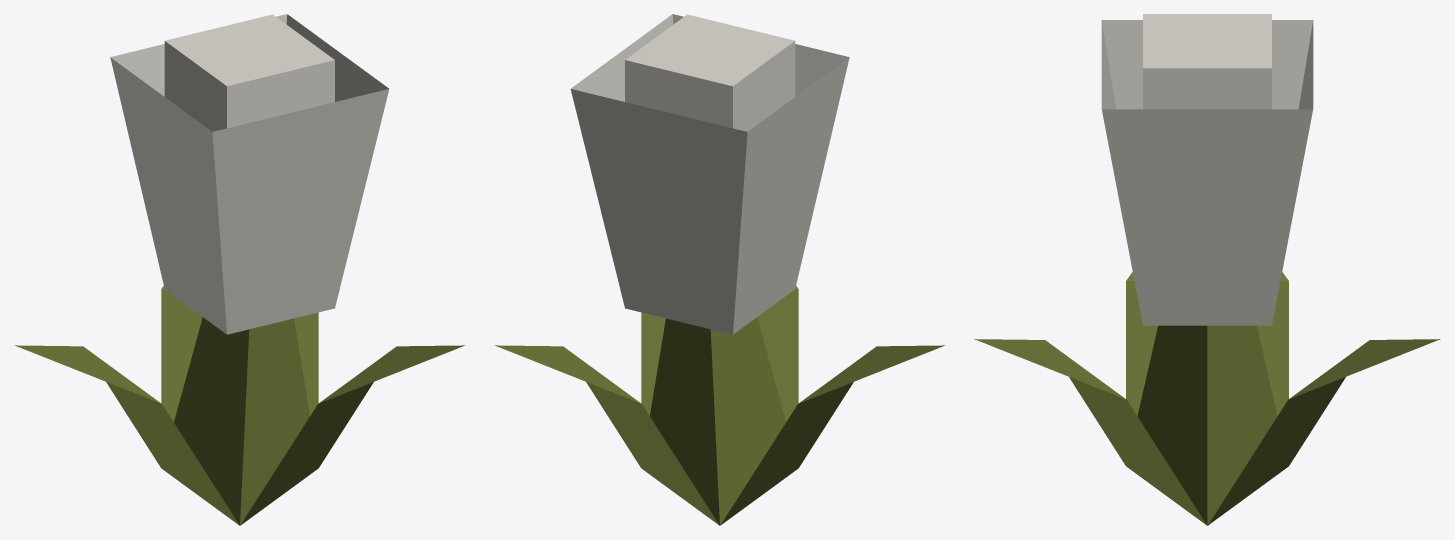
The model's file is fleur-blanche.glb.
3 renders of one model, left to right at view 1: azimuth 30°, elevation 25°; view 2: azimuth 150°, elevation 25°; view 3: azimuth 270°, elevation 25°, orthographic. The views are drawn at different scales.
Parts seen in each view (by area): view 1: flower_yellowA; view 2: flower_yellowA; view 3: flower_yellowA.
Boxes of the visible parts, bbox=[...] form: flower_yellowA: bbox=[15, 14, 464, 525]; flower_yellowA: bbox=[495, 14, 944, 525]; flower_yellowA: bbox=[974, 14, 1440, 525].
Bounding box in the file's own units: 0.4133 × 0.5 × 0.4703.
